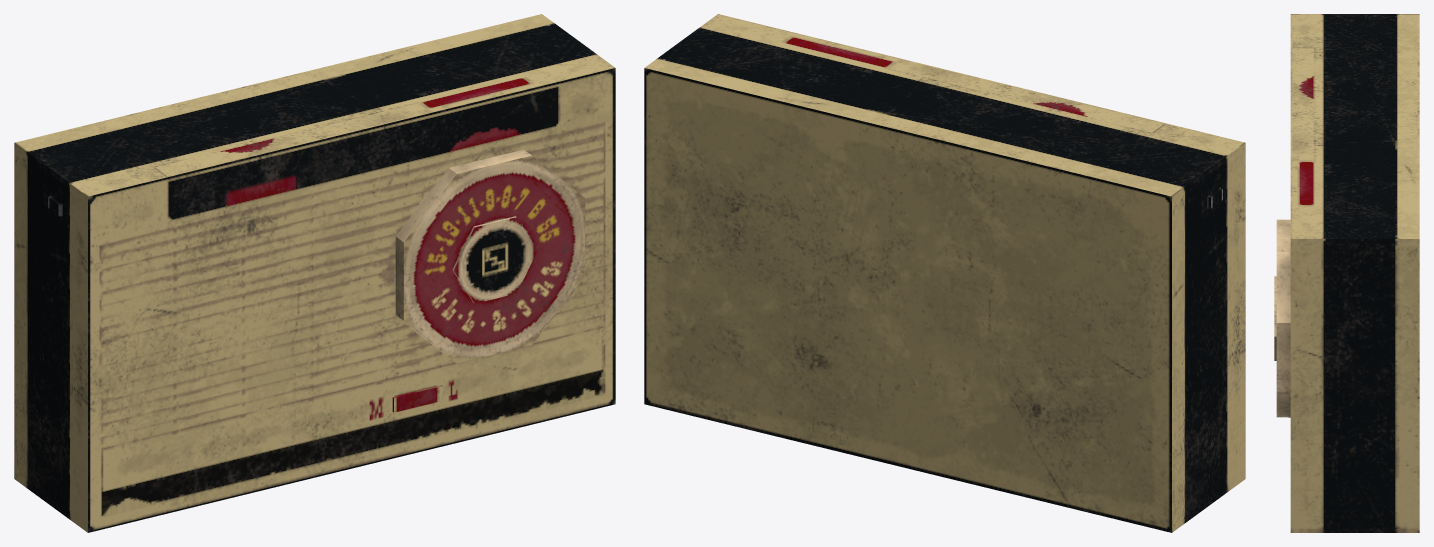
File: SM_Radio.fbx
The picture shows the model from 3 angles, left to right: view 1: azimuth 30°, elevation 25°; view 2: azimuth 150°, elevation 25°; view 3: azimuth 270°, elevation 25°; orthographic projection. The views are drawn at different scales.
Visible parts, largest first — view 1: SM_Radio; view 2: SM_Radio; view 3: SM_Radio.
Part boxes in pixels (<box>): SM_Radio: <box>14,14,615,532</box>; SM_Radio: <box>644,14,1245,532</box>; SM_Radio: <box>1274,14,1419,532</box>.
Bounding box in the file's own units: 25.13 × 15.23 × 6.82.
Materials: 1 (1 with a texture image).
